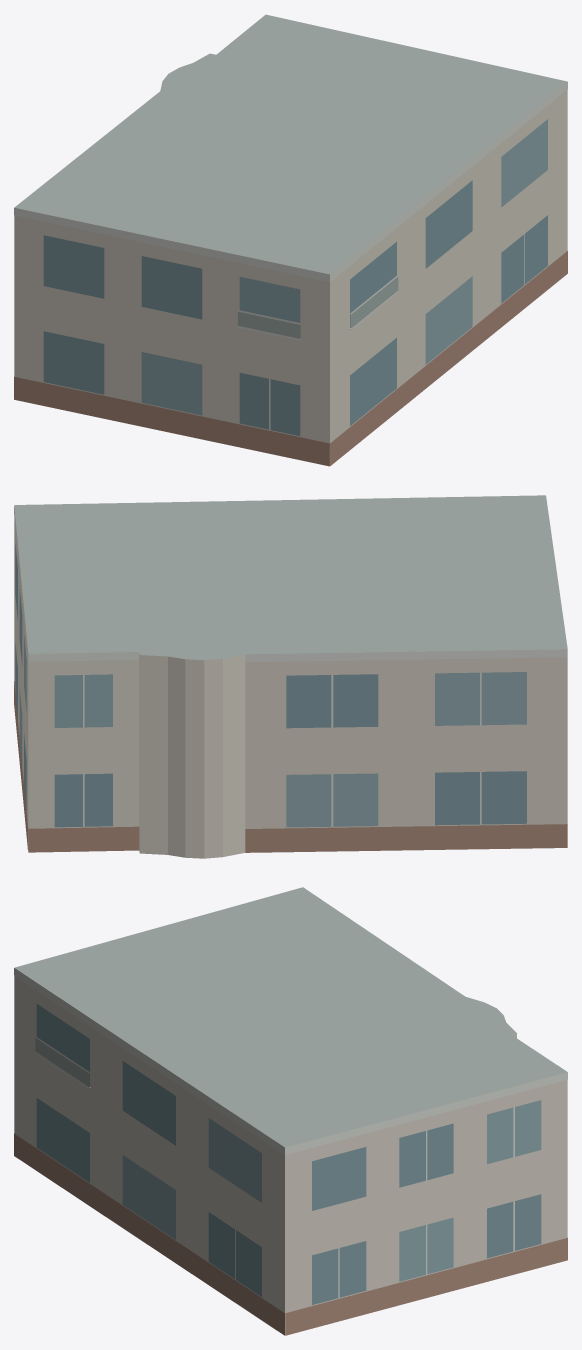
File: survey-upis-32940612.glb
3 renders of one model, top to bottom at view 1: azimuth 30°, elevation 25°; view 2: azimuth 150°, elevation 25°; view 3: azimuth 270°, elevation 25°, orthographic. The views are drawn at different scales.
Visible parts, largest first — view 1: survey-upis-32940612.tmp; view 2: survey-upis-32940612.tmp; view 3: survey-upis-32940612.tmp.
Boxes of the visible parts, x1,y1,x2,y2 form: survey-upis-32940612.tmp: (14,14,567,466); survey-upis-32940612.tmp: (14,495,567,858); survey-upis-32940612.tmp: (14,887,567,1335).
Bounding box in the file's own units: 18.12 × 6.1 × 16.28.
